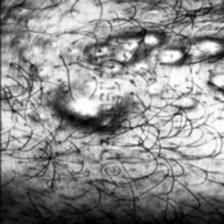Unclassified: (52, 72, 107, 122), (100, 36, 158, 66)
